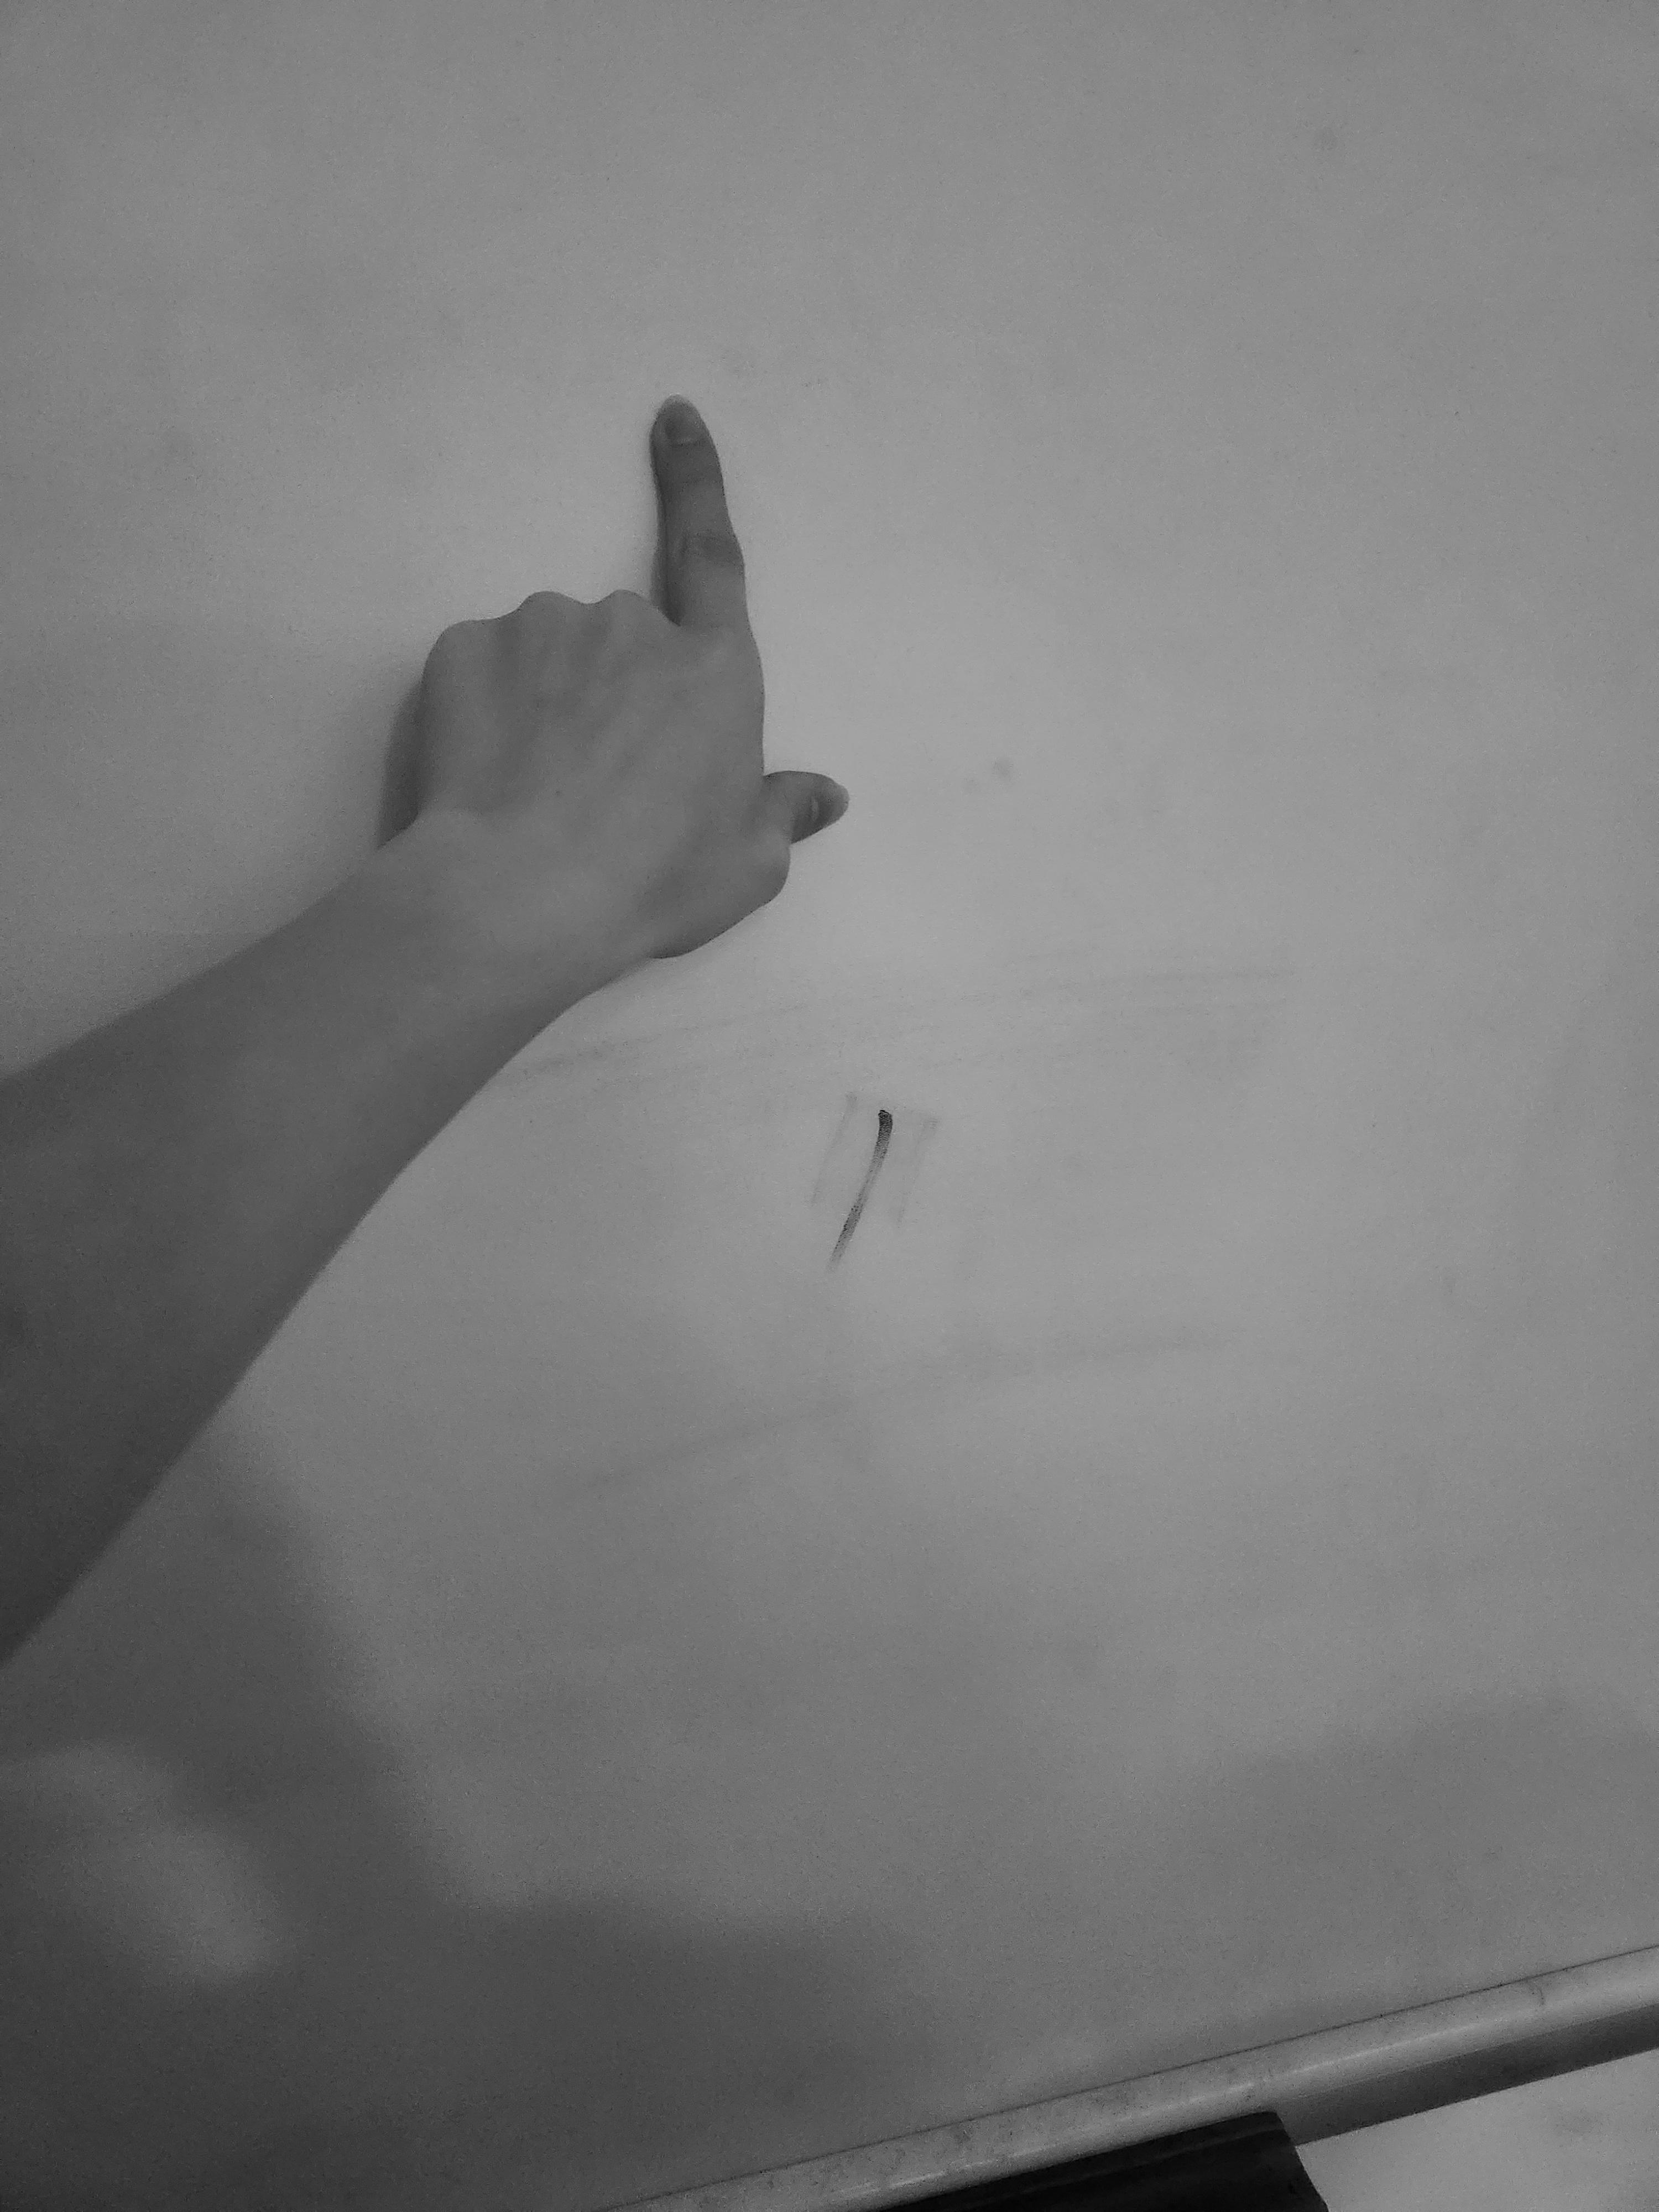pointing_gesture: (361, 399, 925, 956)
